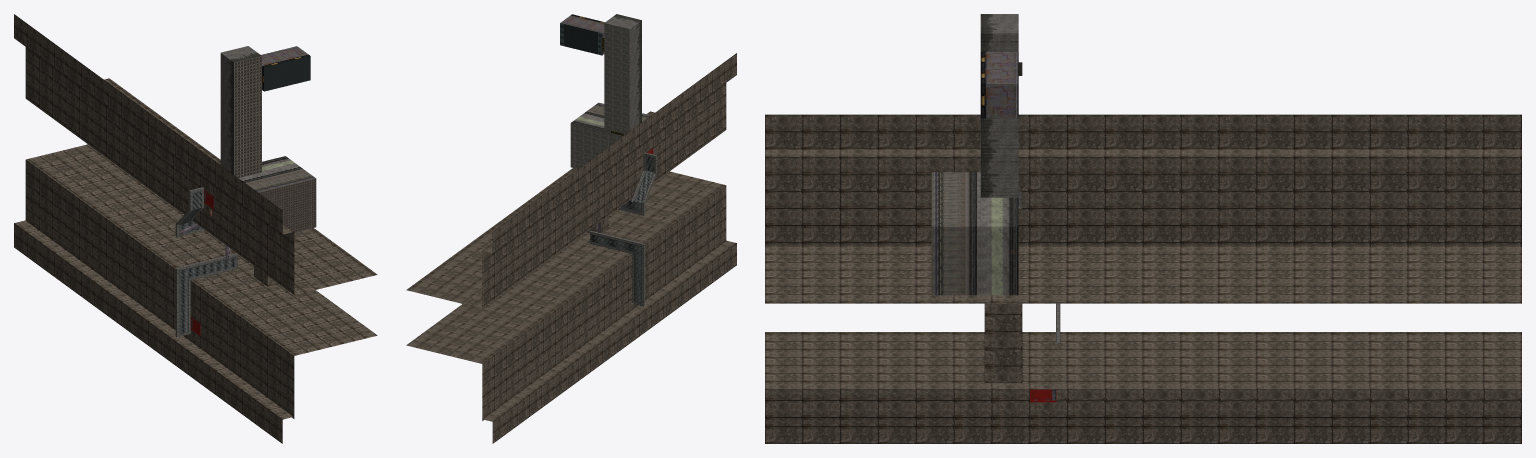
Rendered from map.glb.
The picture shows the model from 3 angles, left to right: view 1: azimuth 30°, elevation 25°; view 2: azimuth 150°, elevation 25°; view 3: azimuth 270°, elevation 25°; orthographic projection. The views are drawn at different scales.
Parts seen in each view (by area): view 1: map.008; view 2: map.008; view 3: map.008.
Boxes of the visible parts, x1=… form: map.008: x1=14, y1=14, x2=377, y2=443; map.008: x1=406, y1=14, x2=736, y2=443; map.008: x1=765, y1=14, x2=1521, y2=443.
Size of the model in its own units: 46 by 131 by 200.
Materials: 26 (25 with a texture image).
